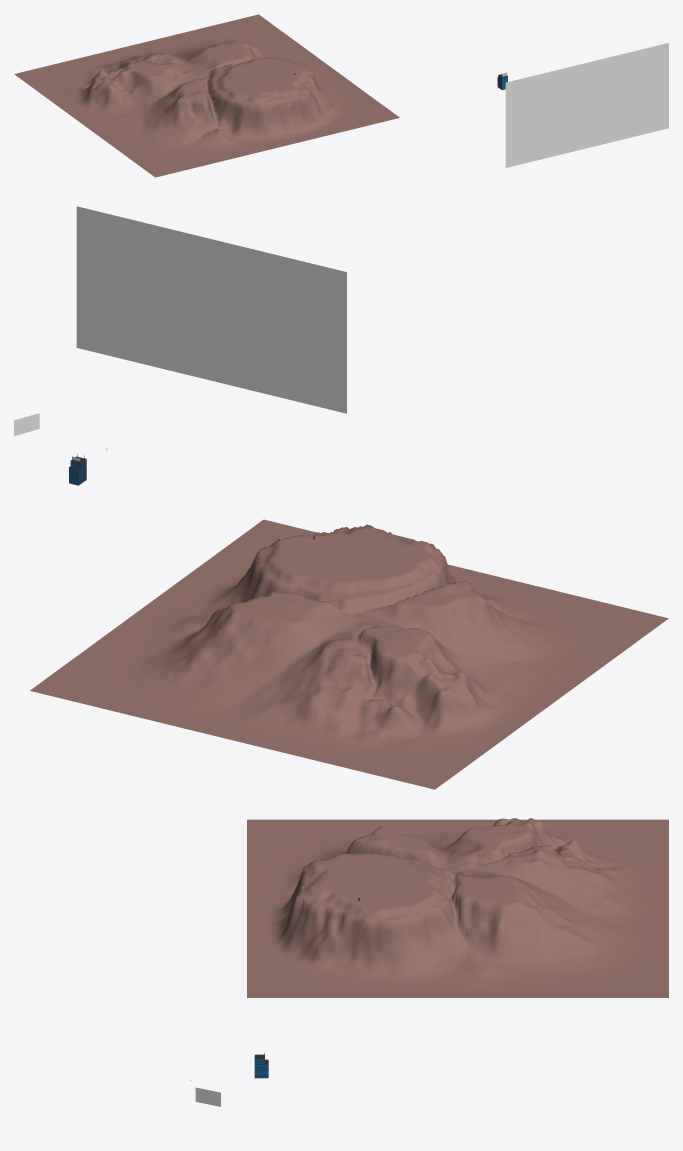
3 views of the same model, one above another, from view 1: azimuth 30°, elevation 25°; view 2: azimuth 150°, elevation 25°; view 3: azimuth 270°, elevation 25° (orthographic). The views are drawn at different scales.
Visible parts, largest first — view 1: rock.collidable, display:main.001; view 2: rock.collidable, display:main; view 3: rock.collidable.
Boxes of the visible parts, x1=… form: rock.collidable: x1=14, y1=14, x2=399, y2=177; display:main.001: x1=505, y1=43, x2=668, y2=167; rock.collidable: x1=30, y1=519, x2=668, y2=789; display:main: x1=76, y1=206, x2=346, y2=413; rock.collidable: x1=247, y1=818, x2=668, y2=997.
Size of what is drawn, in the model's own units: 42705 by 8010 by 37249.
6 materials, 1 textured.
